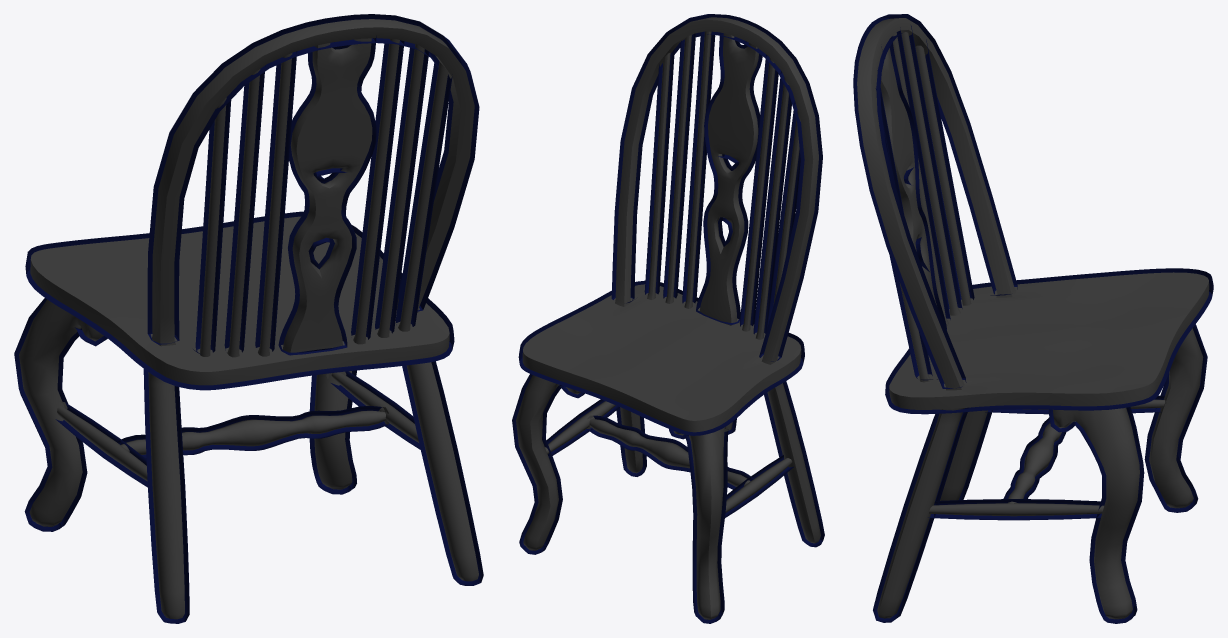
3 views of the same model, side by side, from view 1: azimuth 30°, elevation 25°; view 2: azimuth 150°, elevation 25°; view 3: azimuth 270°, elevation 25° (orthographic). The views are drawn at different scales.
Visible parts, largest first — view 1: Chair_Dining_Right; view 2: Chair_Dining_Right; view 3: Chair_Dining_Right.
Boxes of the visible parts, x1,y1,x2,y2 form: Chair_Dining_Right: (14, 14, 483, 623); Chair_Dining_Right: (512, 14, 824, 623); Chair_Dining_Right: (853, 14, 1213, 623).
Bounding box in the file's own units: 0.5514 × 1.05 × 0.6412.
